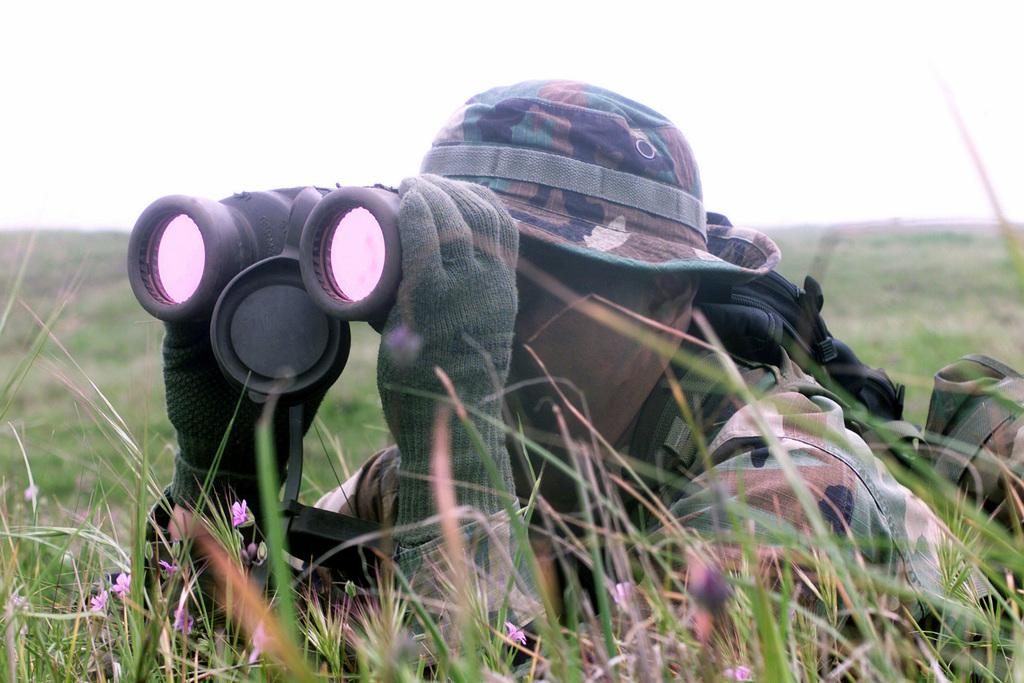Hat: (400, 76, 784, 286)
